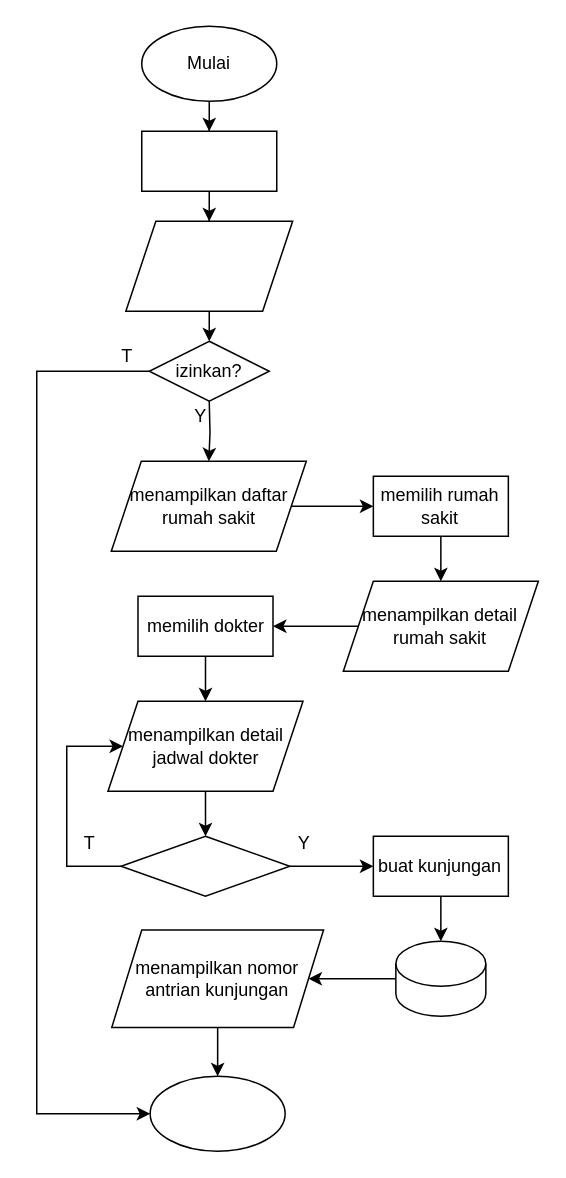
The diagram is 566 pixels wide and 1178 high, and some of its shapes have lost their labels. Each missing label, with the centre of its shape:
"memilih menu rumah sakit" goes at point 208,160.
"menampilkan pertanyaan izin akses lokasi" goes at point 208,265.
"Selesai" goes at point 217,1113.
"sudah login?" goes at point 205,865.
